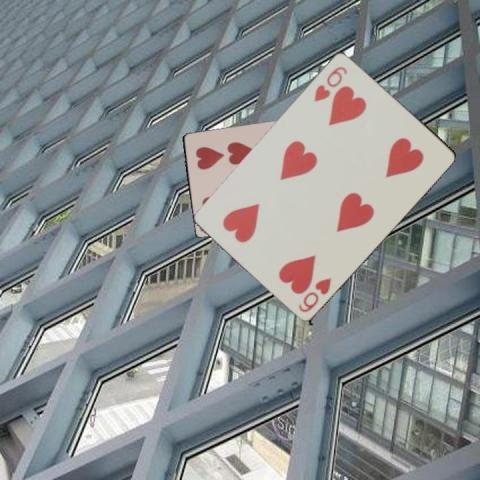6h: (310, 63, 348, 102), (296, 274, 333, 314)
